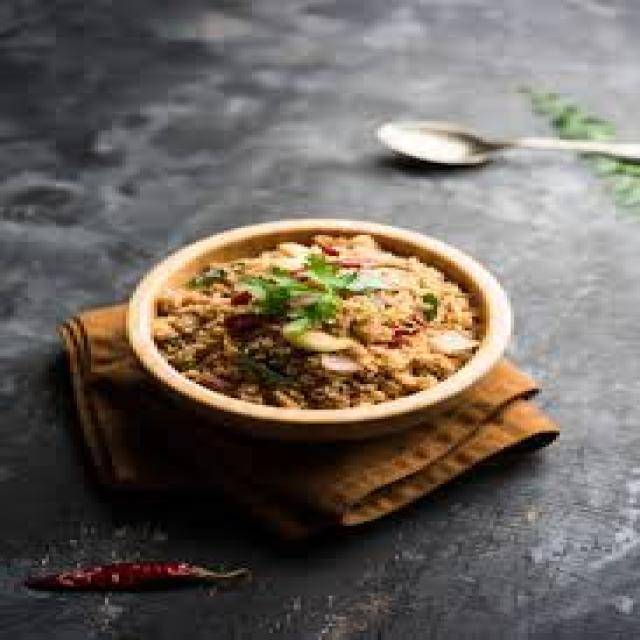POHA: (157, 233, 476, 405)
